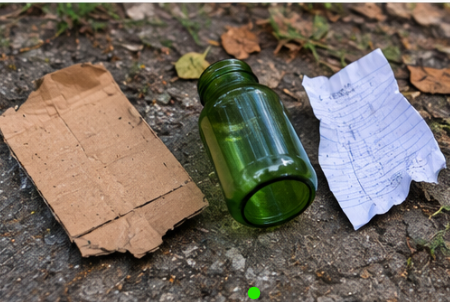cardboard: (0, 60, 207, 260)
glass: (193, 57, 315, 227)
paper: (299, 51, 448, 233)
